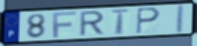8: (25, 13, 47, 39)
F: (51, 11, 78, 39)
I: (174, 4, 186, 35)
P: (136, 7, 162, 35)
R: (78, 10, 107, 38)
T: (109, 9, 132, 36)
